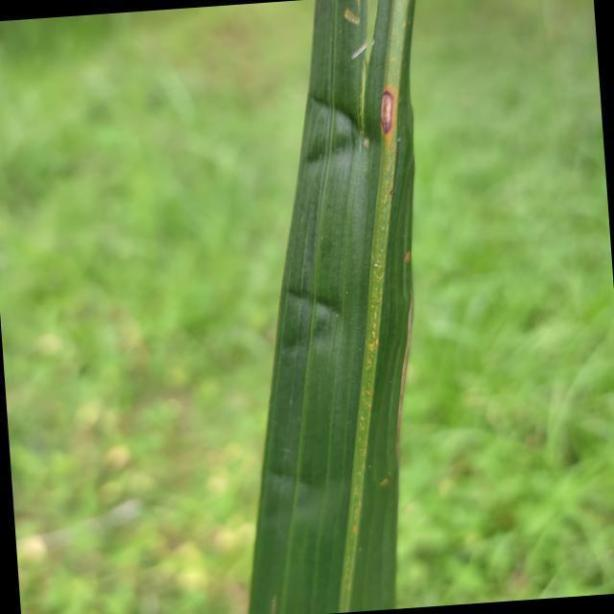Boron: (246, 0, 416, 614)
